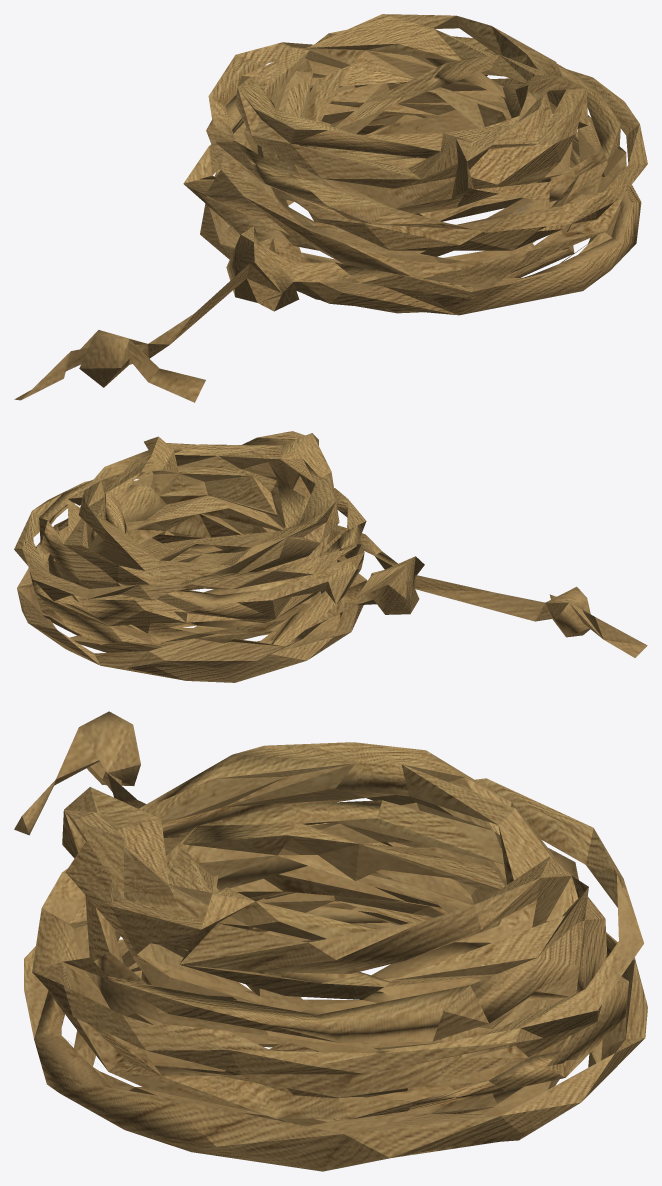
Rendered from modelo.fbx.
3 renders of one model, top to bottom at view 1: azimuth 30°, elevation 25°; view 2: azimuth 150°, elevation 25°; view 3: azimuth 270°, elevation 25°, orthographic. The views are drawn at different scales.
Parts seen in each view (by area): view 1: Mesh_0; view 2: Mesh_0; view 3: Mesh_0.
Boxes of the visible parts, box(x1,y1,x2,y2) form: Mesh_0: box(14, 14, 647, 402); Mesh_0: box(14, 431, 647, 682); Mesh_0: box(14, 711, 647, 1171).
Bounding box in the file's own units: 190 × 47.57 × 114.
Materials: 1 (1 with a texture image).
